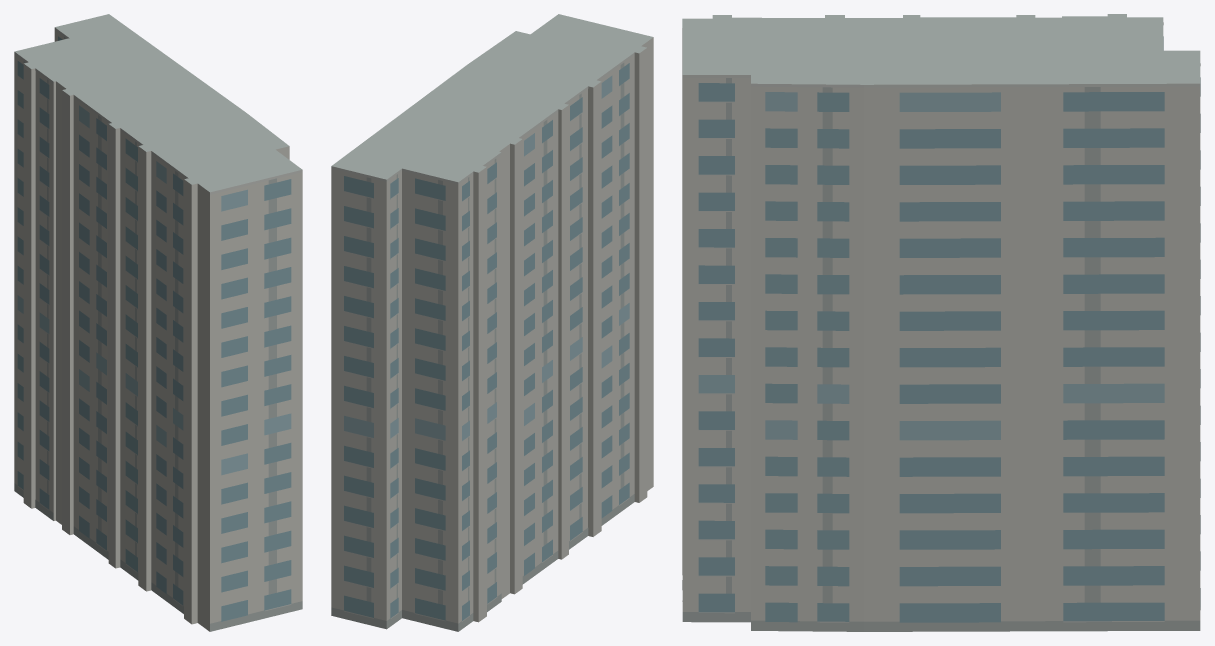
Rendered from residential-28d3161d-2766-4086-8ab6-af4963d50a6c.glb.
3 renders of one model, left to right at view 1: azimuth 30°, elevation 25°; view 2: azimuth 150°, elevation 25°; view 3: azimuth 270°, elevation 25°, orthographic. The views are drawn at different scales.
Parts seen in each view (by area): view 1: residential-28d3161d-2766-4086-8ab6-af4963d50a6c.tmp; view 2: residential-28d3161d-2766-4086-8ab6-af4963d50a6c.tmp; view 3: residential-28d3161d-2766-4086-8ab6-af4963d50a6c.tmp.
Boxes of the visible parts, box(x1,y1,x2,y2) form: residential-28d3161d-2766-4086-8ab6-af4963d50a6c.tmp: box(14, 14, 302, 631); residential-28d3161d-2766-4086-8ab6-af4963d50a6c.tmp: box(331, 14, 653, 631); residential-28d3161d-2766-4086-8ab6-af4963d50a6c.tmp: box(682, 14, 1200, 631).
Size of the model in its own units: 12.51 by 45 by 38.63.
